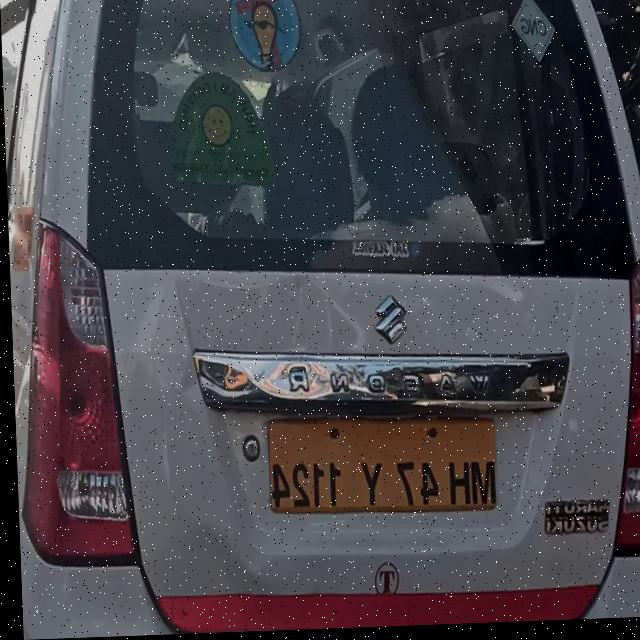plate: (261, 411, 496, 522)
